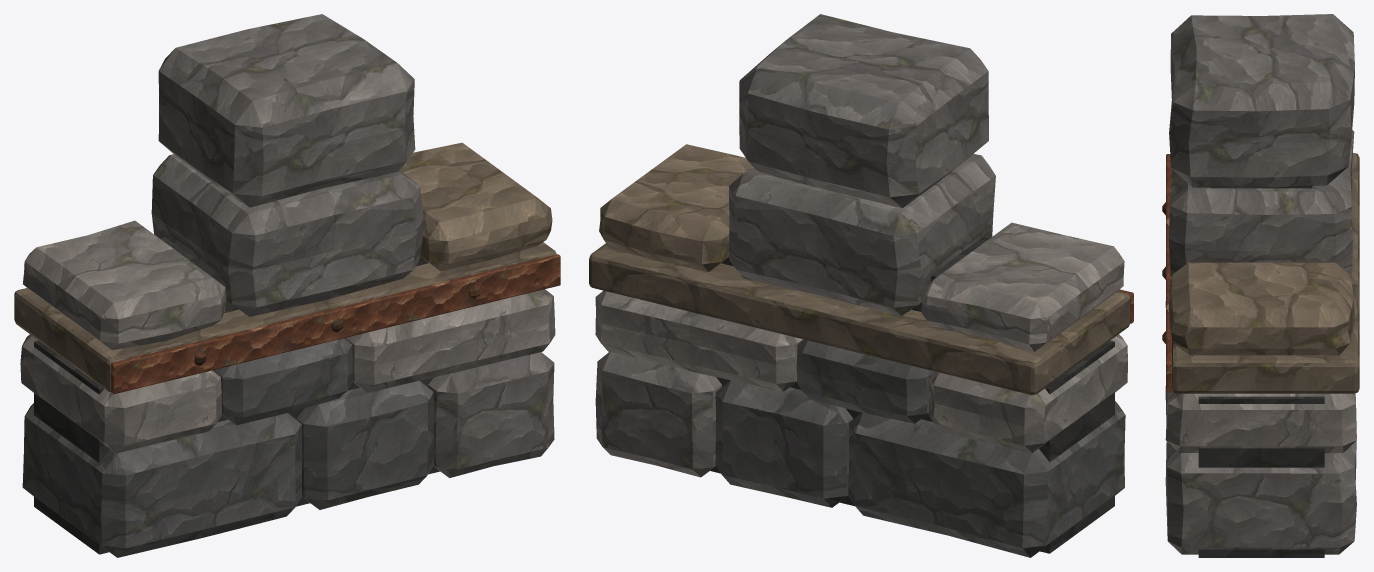
File: battlement_narrow__cut_stone.glb
3 views of the same model, side by side, from view 1: azimuth 30°, elevation 25°; view 2: azimuth 150°, elevation 25°; view 3: azimuth 270°, elevation 25° (orthographic). The views are drawn at different scales.
Parts seen in each view (by area): view 1: model; view 2: model; view 3: model.
Boxes of the visible parts, <box> form: model: <box>14,14,560,557</box>; model: <box>589,14,1133,557</box>; model: <box>1162,14,1359,557</box>.
Bounding box in the file's own units: 0.9852 × 0.8813 × 0.3881.
Materials: 8 (8 with a texture image).
